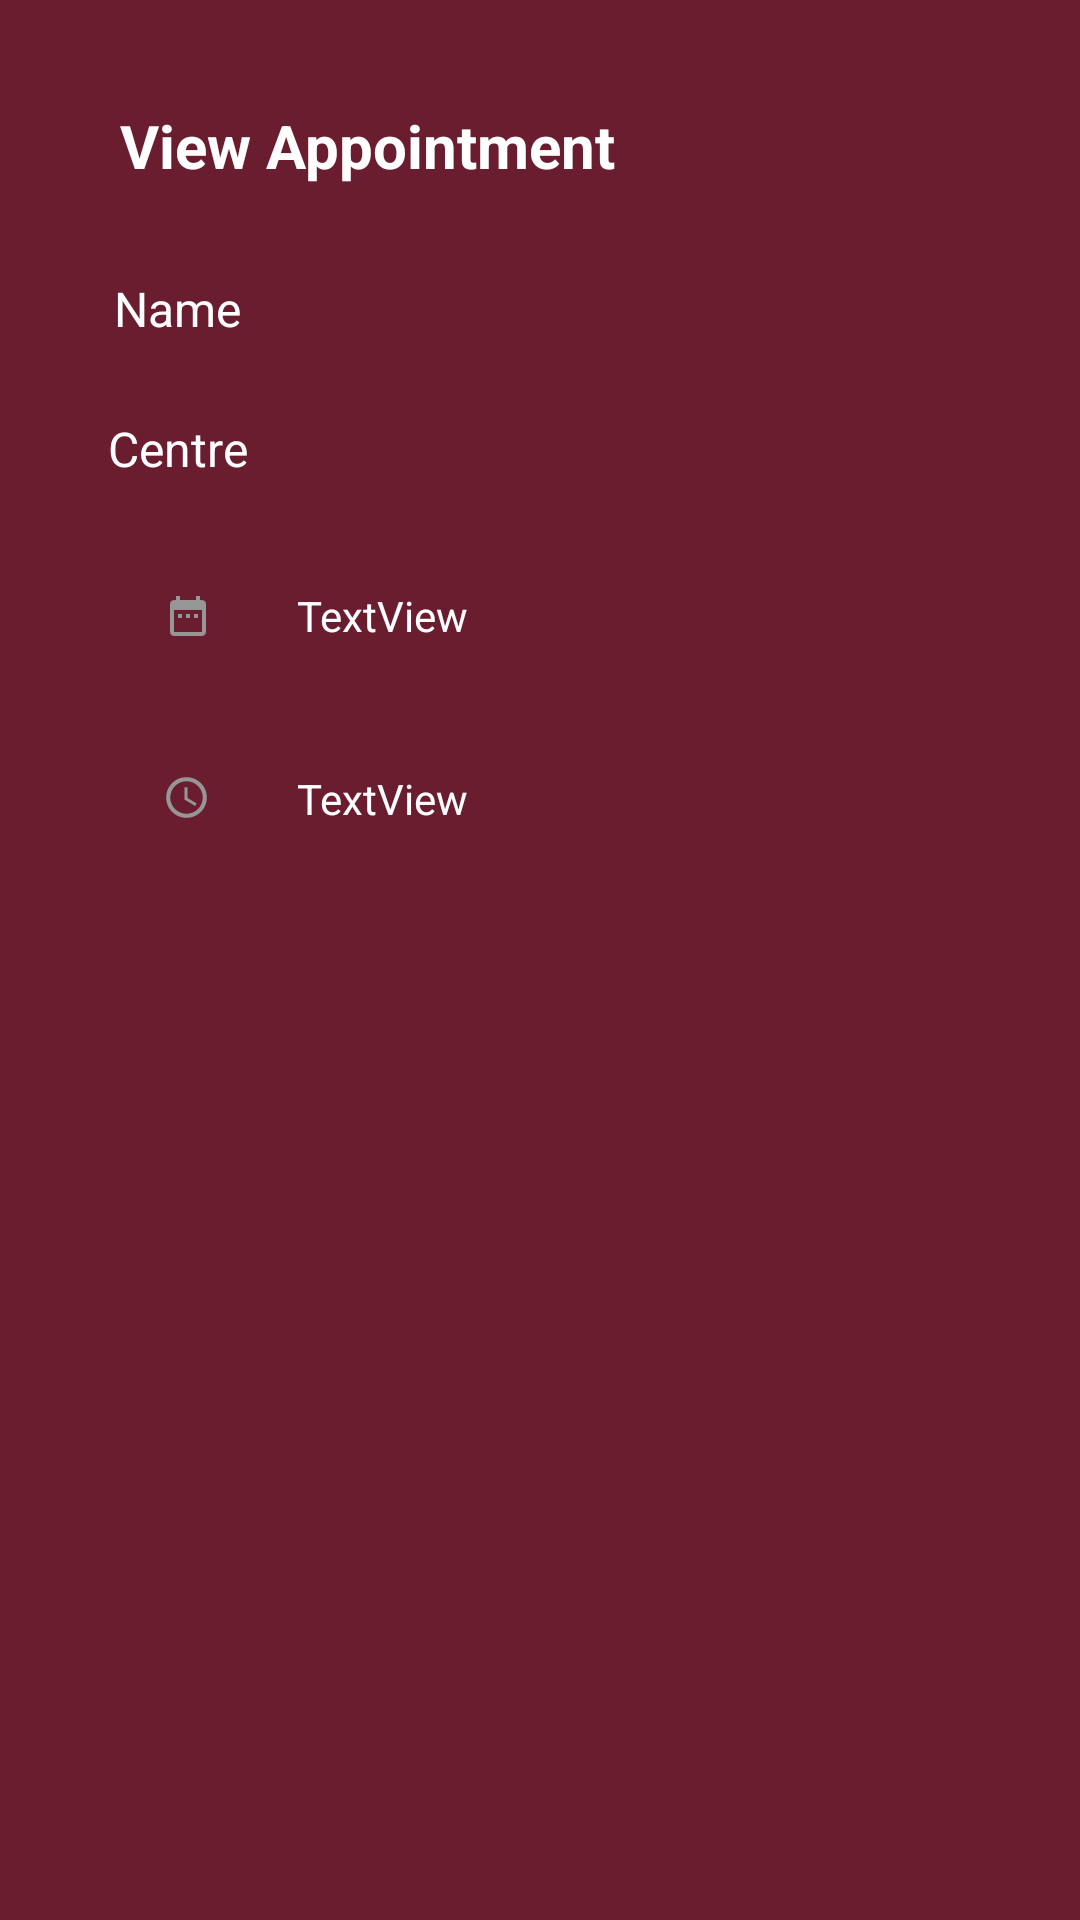

Point at icon controls on the screen. Image size 1080x1920, points as (x,y).
date: (188,616)
time: (186,797)
